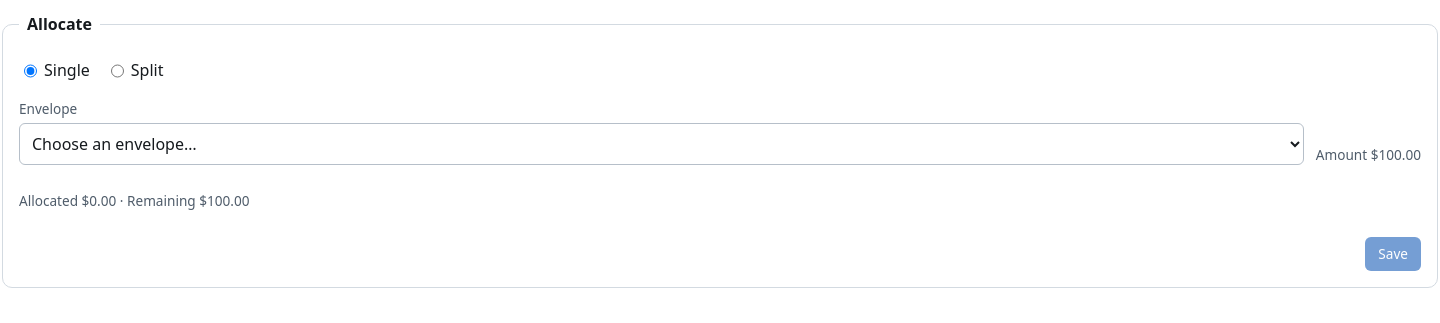
Test case: AllocationEditor accelerators (Slice 2) › distribute remaining spreads the leftover to zero
Click the radio button labelled "Split". click: [117, 71]
box: 111,55 -> 124,87
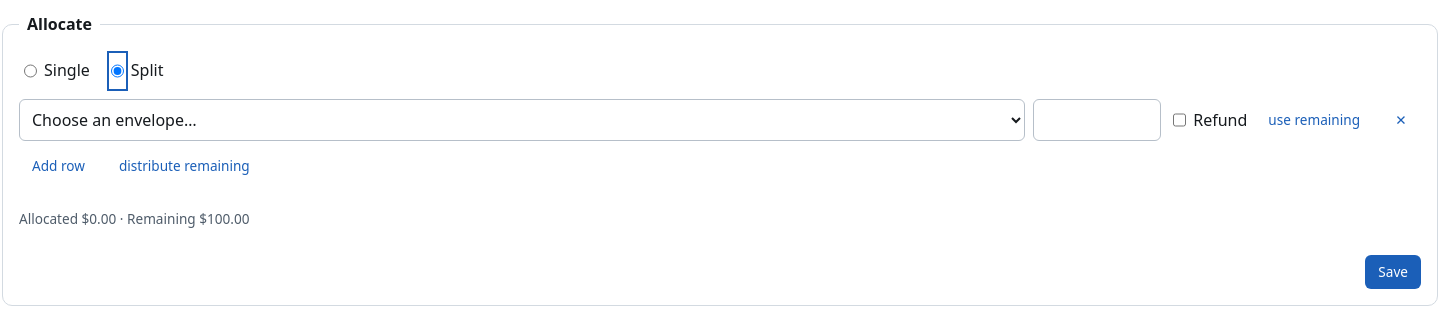
Select "Rent" in the dropdown named "Envelope for row 1". click: [522, 120]
box: 19,99 -> 1025,141
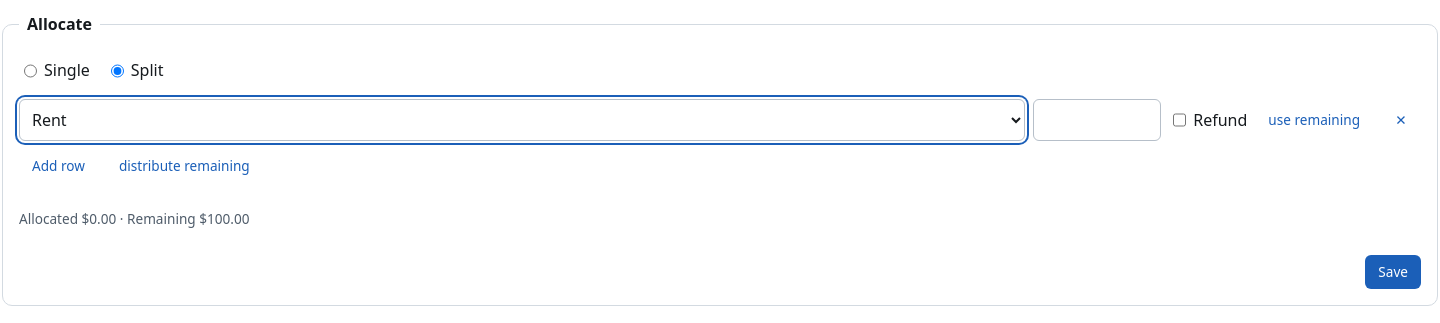
Click the button "distribute remaining". click: [184, 166]
box: 106,149 -> 263,183
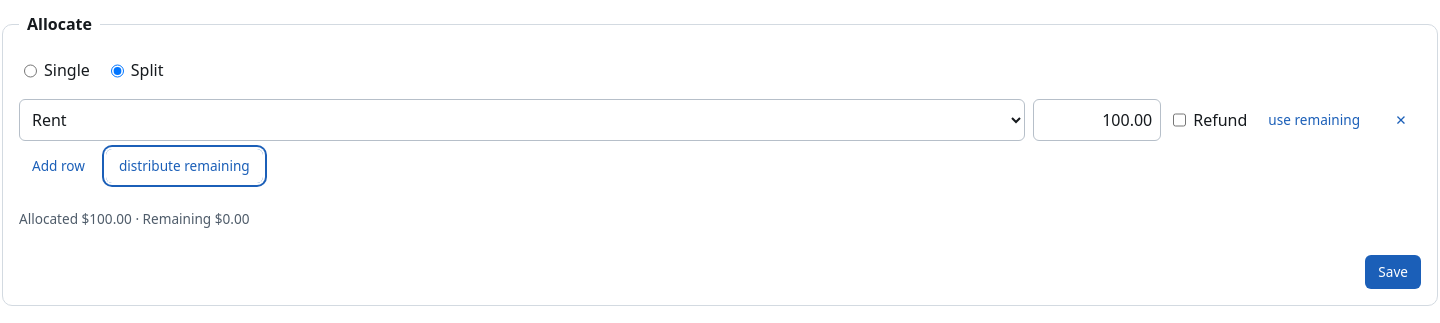
Expected: the field named "Amount for row 1" holds "100.00", 1033,99 -> 1161,141
Expected: the text "Allocated $100.00 · Remaining $0.00" is shown, 19,209 -> 250,228
